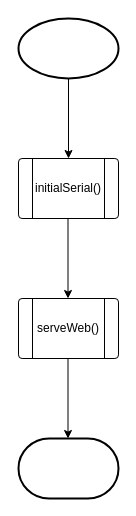
The diagram is 136 pixels wide and 516 high, and some of its shapes have lost their labels. Here are the shapes that lost their labels. From the top down, the centre of each, then its label:
the point at 68,48: Start
the point at 68,468: End
